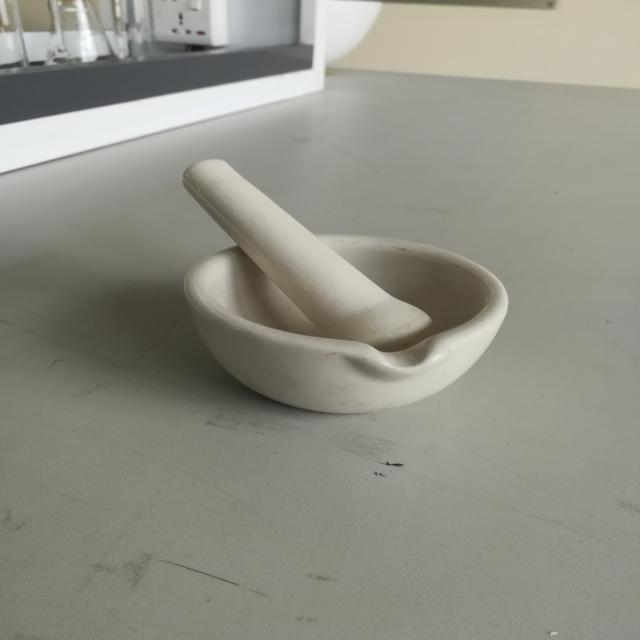Porcelain_Mortar Pestle: (144, 108, 548, 498)
